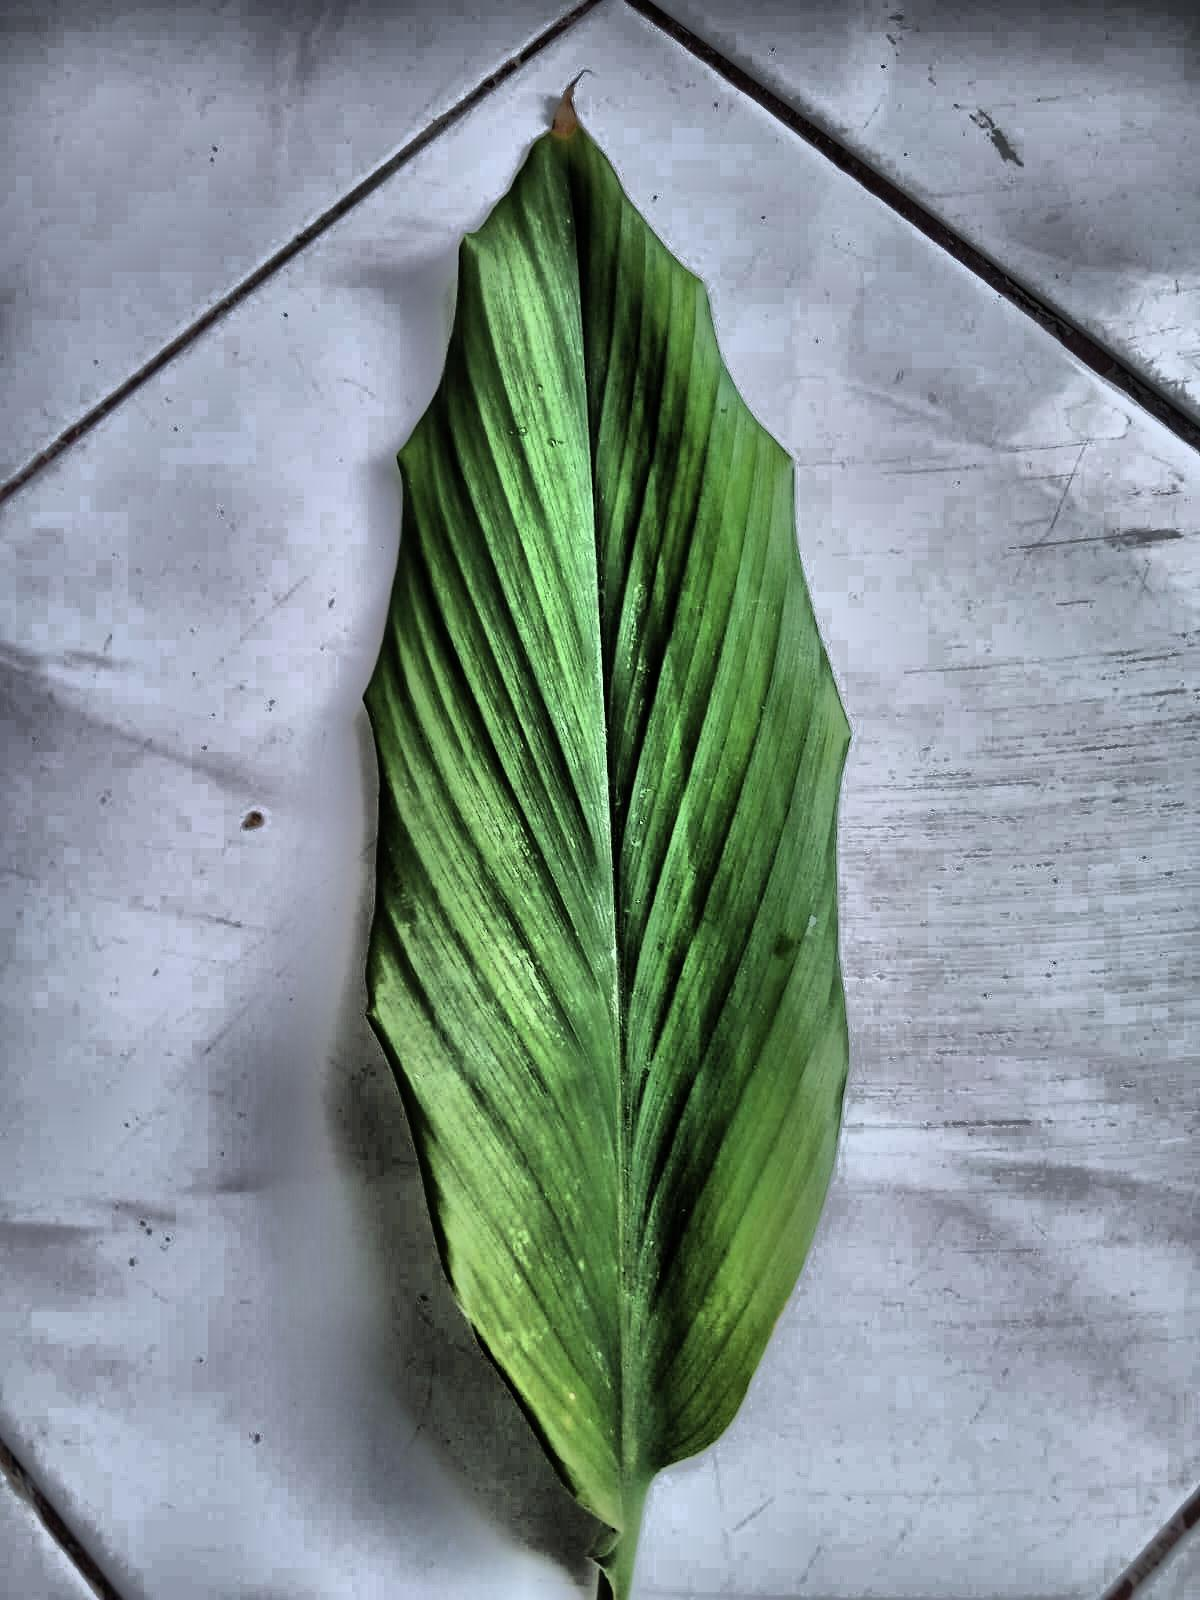daun kunyit: (366, 97, 848, 1599)
